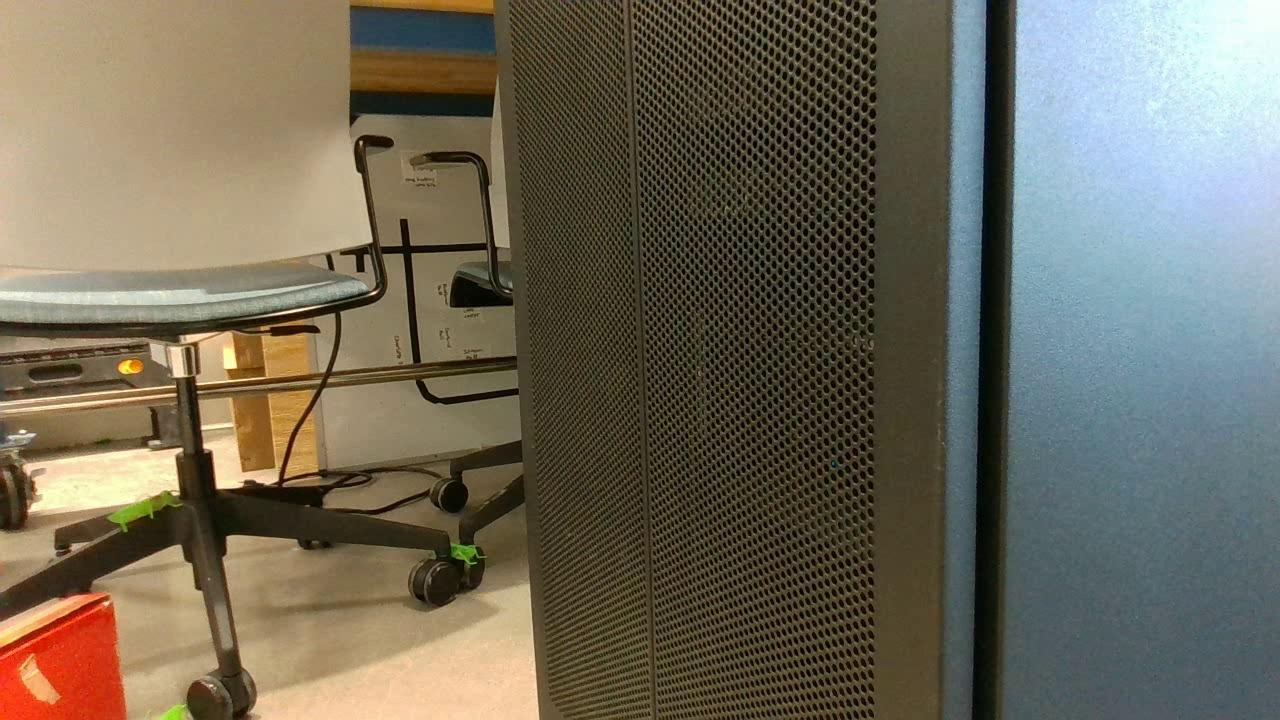grasshopper: (107, 491, 181, 541), (428, 544, 486, 568), (151, 703, 195, 720)
